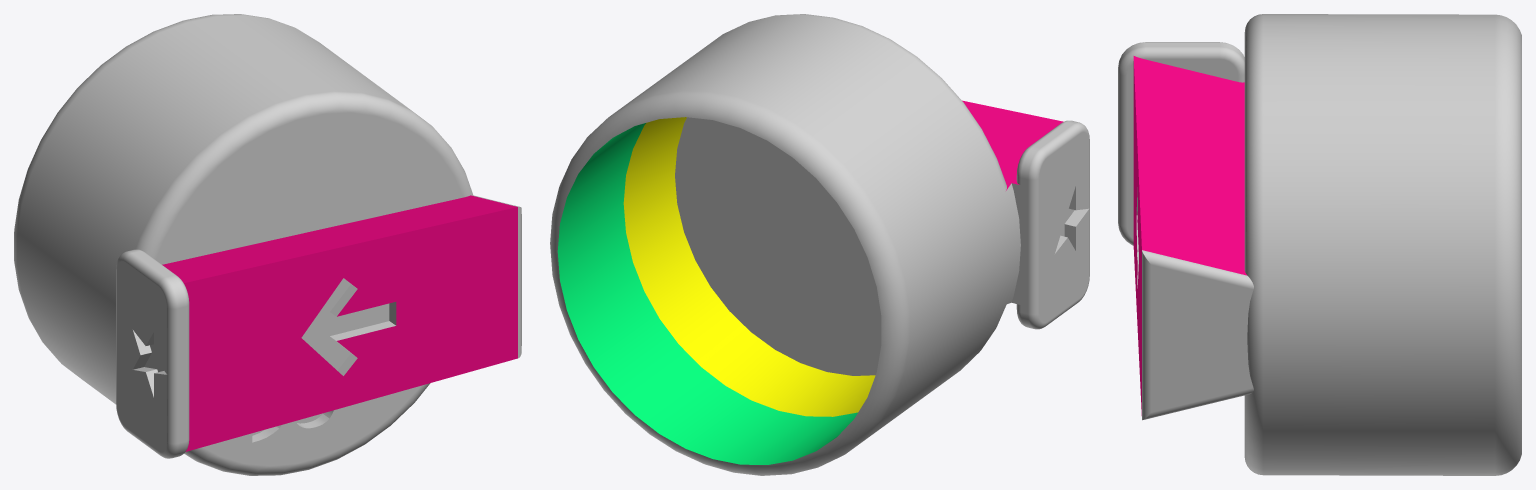
The model's file is 90_static.glb.
3 renders of one model, left to right at view 1: azimuth 30°, elevation 25°; view 2: azimuth 150°, elevation 25°; view 3: azimuth 270°, elevation 25°, orthographic. The views are drawn at different scales.
Parts seen in each view (by area): view 1: Body1; view 2: Body1; view 3: Body1.
Part boxes in pixels (left/top/right/bottom): Body1: left=14, top=14, right=521, bottom=475; Body1: left=550, top=14, right=1089, bottom=475; Body1: left=1118, top=14, right=1521, bottom=475.
Bounding box in the file's own units: 2.6 × 2.5 × 2.19.
